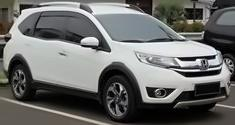Car hood: (113, 39, 219, 58)
Driver-s door - -F-R-: (52, 4, 113, 102)
Fender - -F-R-: (96, 38, 140, 98)
Fender - -R-R-: (1, 8, 31, 62)
Front bumper: (131, 64, 231, 110)
Headlight - -R-: (134, 51, 182, 71)
Passenger-s door - -R-R-: (21, 1, 62, 98)
Rear bumper: (2, 60, 11, 83)
Rear light - -R-: (4, 31, 12, 43)
Side bumper - -R-: (29, 76, 104, 104)
Side mirror - -R-: (80, 36, 104, 51)
